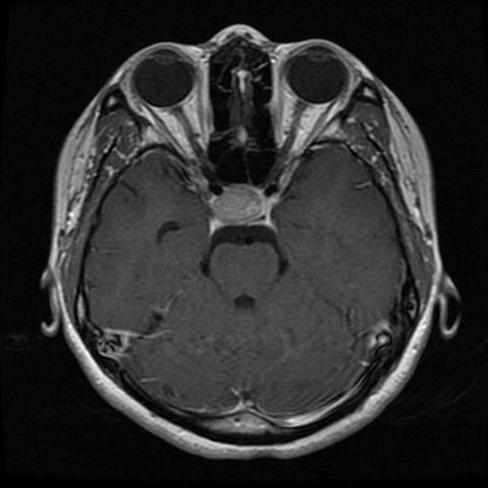Tumour-Pituitary: (207, 184, 285, 233)
